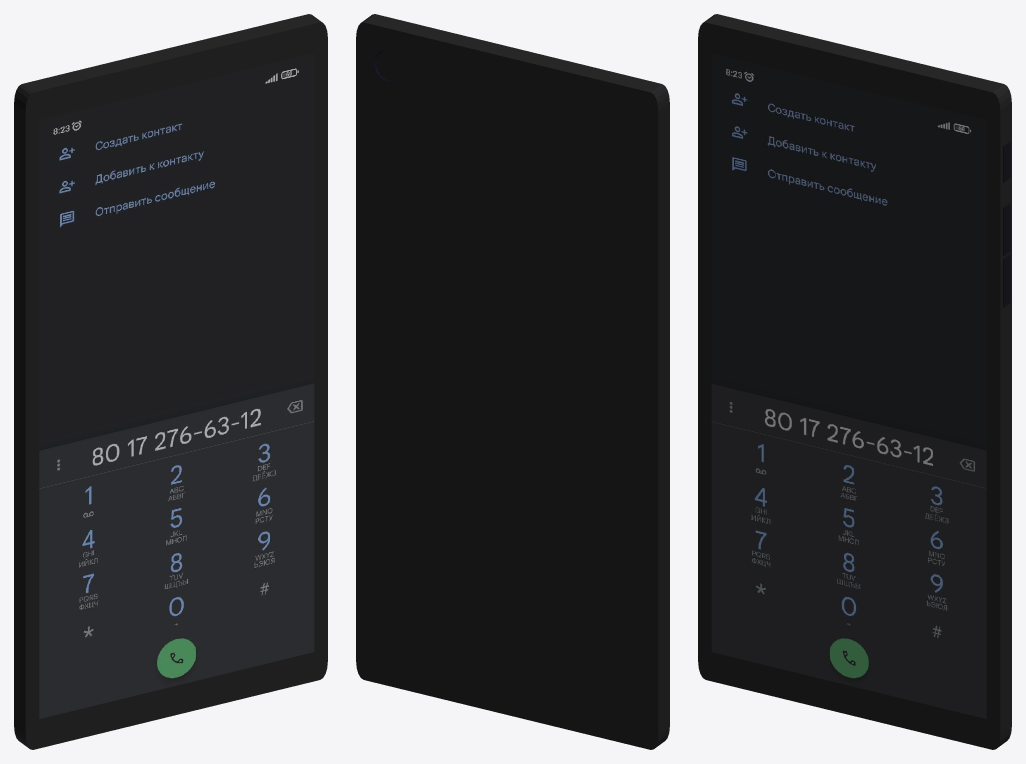
File: phone.glb
The picture shows the model from 3 angles, left to right: view 1: azimuth 30°, elevation 25°; view 2: azimuth 150°, elevation 25°; view 3: azimuth 330°, elevation 25°; orthographic projection.
Parts seen in each view (by area): view 1: Cube; view 2: Cube; view 3: Cube.
Boxes of the visible parts, x1,y1,x2,y2 form: Cube: [14, 14, 327, 749]; Cube: [356, 14, 669, 749]; Cube: [698, 14, 1011, 749].
Bounding box in the file's own units: 1.84 × 3.81 × 0.1285.
5 materials, 1 textured.
